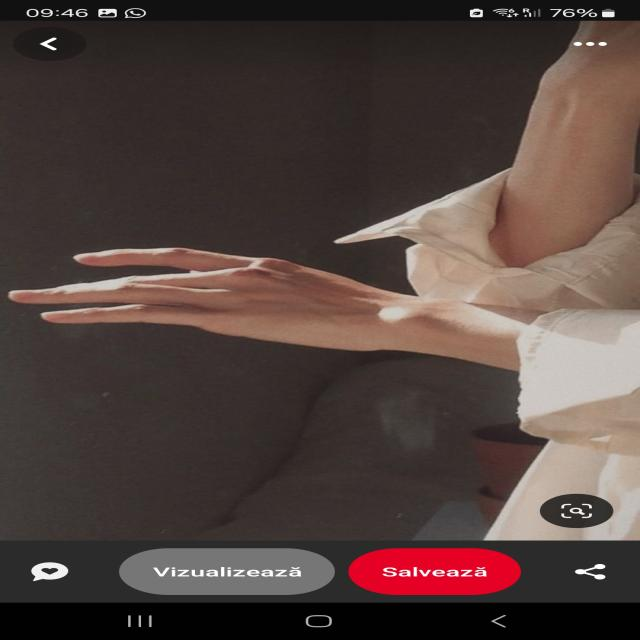hands: (18, 216, 512, 417)
